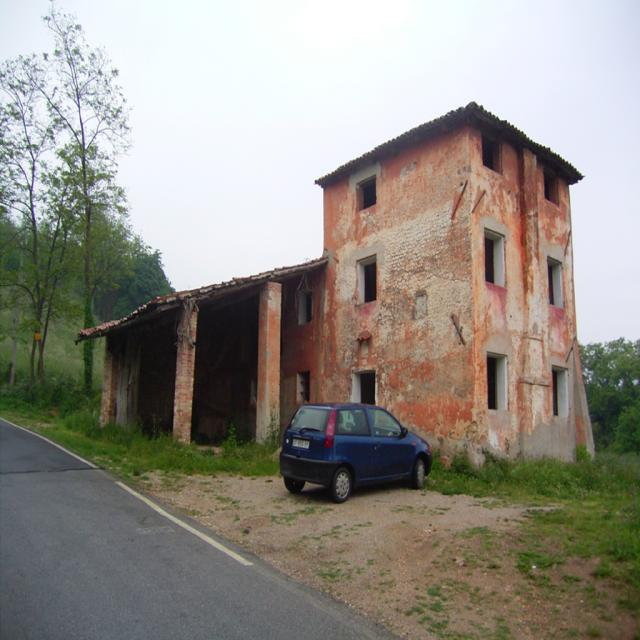car: (279, 398, 433, 502)
